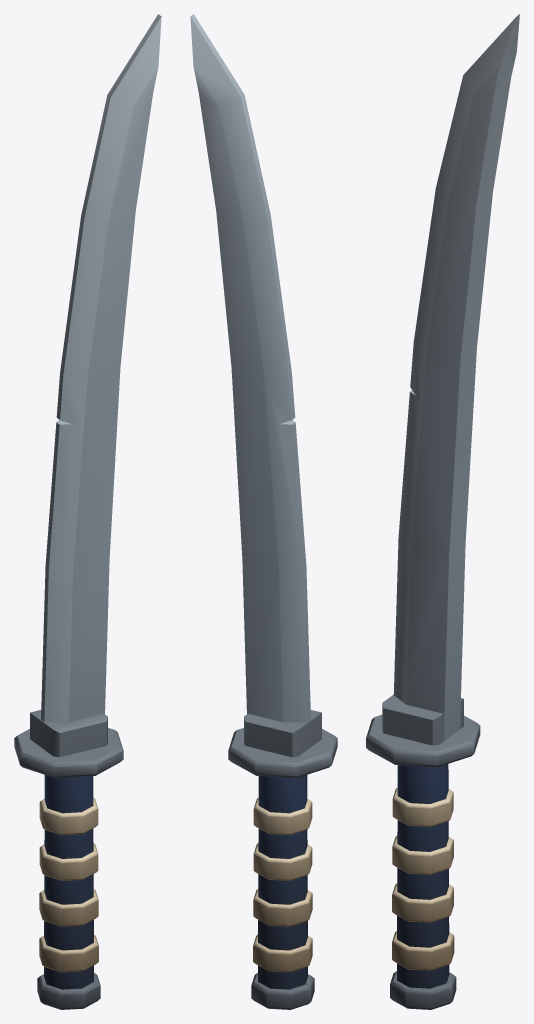
File: greatblade_curved.glb
3 views of the same model, side by side, from view 1: azimuth 30°, elevation 25°; view 2: azimuth 150°, elevation 25°; view 3: azimuth 330°, elevation 25° (orthographic). The views are drawn at different scales.
Parts seen in each view (by area): view 1: Item; view 2: Item; view 3: Item.
Boxes of the visible parts, box(x1,y1,x2,y2) form: Item: box(14, 14, 161, 1009); Item: box(190, 14, 337, 1009); Item: box(366, 14, 519, 1009).
Size of the model in its own units: 0.3846 by 2.52 by 0.2692.
2 materials, 2 textured.
